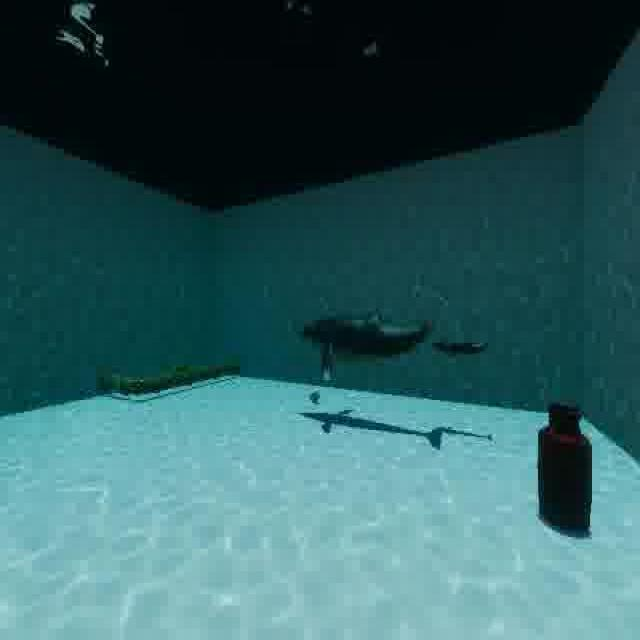Cylinder: (524, 386, 615, 552)
Pipe: (87, 342, 256, 422)
Whale: (298, 304, 437, 398), (428, 325, 494, 370)
